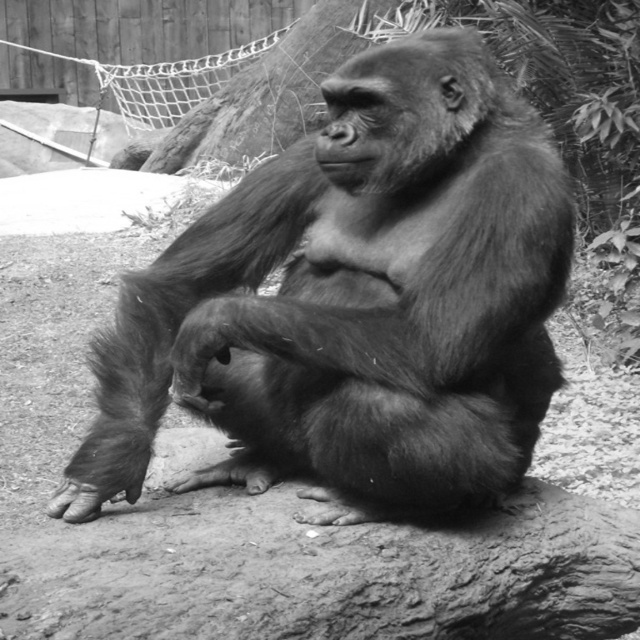Monkey: (45, 26, 601, 526)
